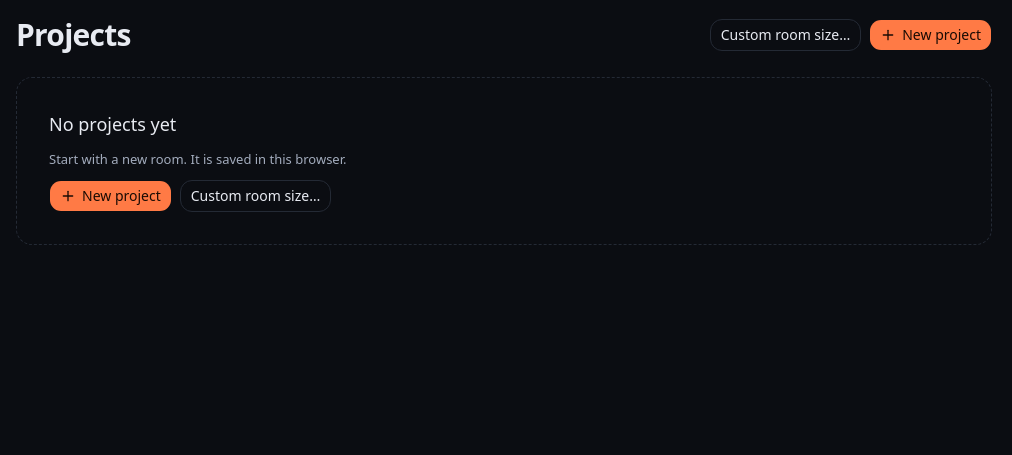
it: ProjectsScreen: new project › works from the empty state too
Check: the heading "No projects yet" is shown, box [49, 110, 176, 138]
Click the 1st button "New project".
click(931, 35)  # box [869, 19, 992, 51]
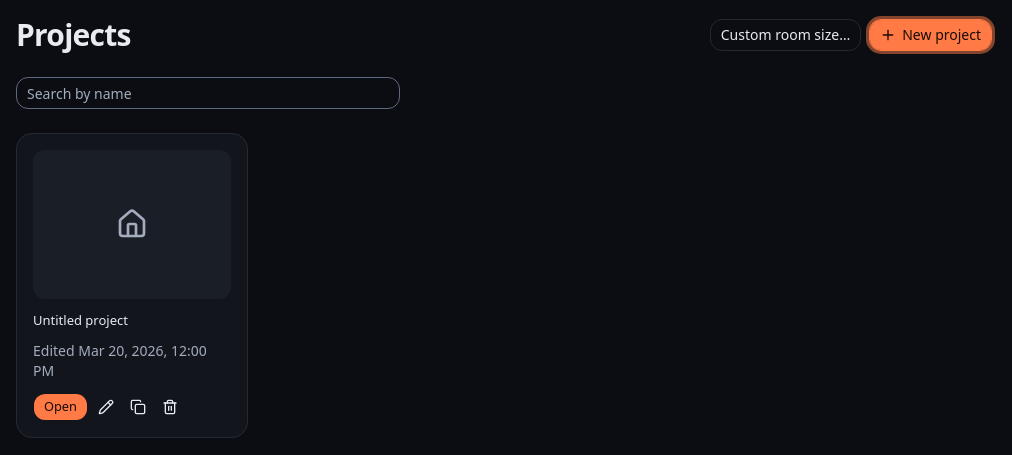
Check: the heading "Untitled project" is shown, box [33, 310, 128, 328]
Check: the heading "No projects yet" is gone
